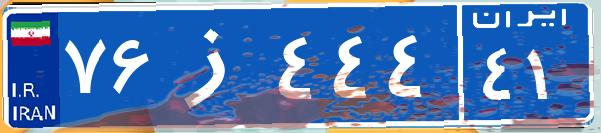1: (525, 38, 570, 115)
4: (385, 28, 445, 110), (273, 28, 330, 110), (330, 28, 385, 110), (475, 38, 525, 113)
6: (110, 28, 158, 105)
7: (57, 26, 110, 107)
ز: (158, 15, 273, 115)
